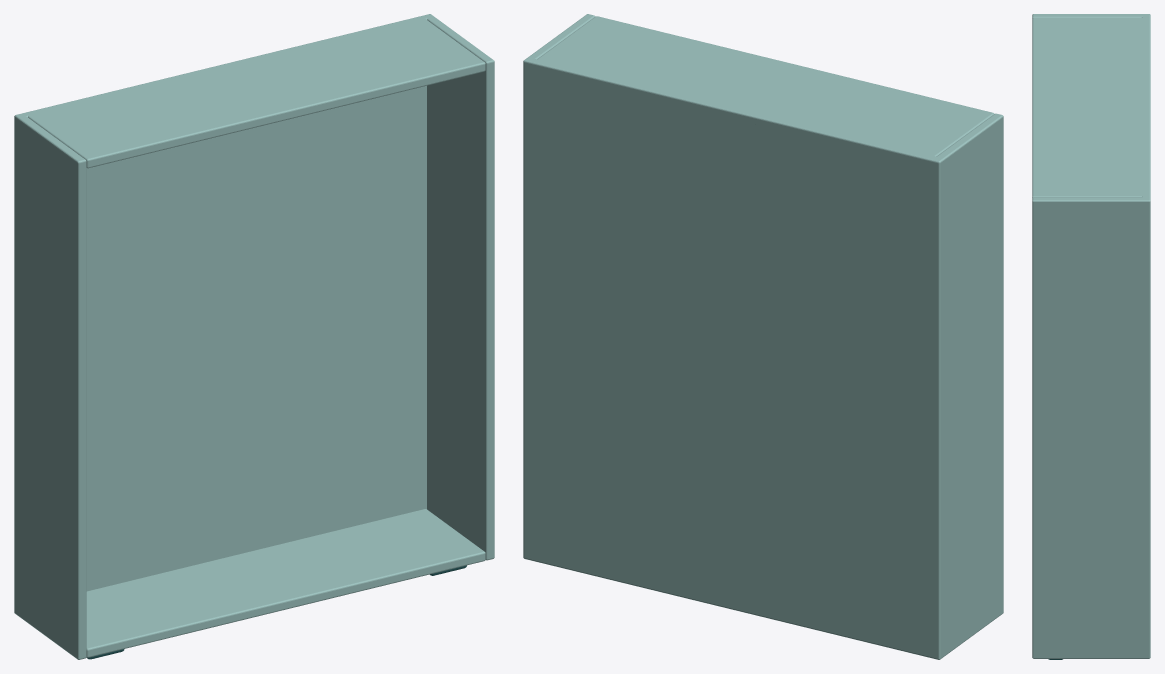
File: bin.glb
3 renders of one model, left to right at view 1: azimuth 30°, elevation 25°; view 2: azimuth 150°, elevation 25°; view 3: azimuth 270°, elevation 25°, orthographic. The views are drawn at different scales.
Parts seen in each view (by area): view 1: Fastener bin floor, Fastener bin side, Fastener bin side.001, Fastener bin end.001, Fastener bin end; view 2: Fastener bin floor, Fastener bin side, Fastener bin end.001, Fastener bin end, Fastener bin side.001; view 3: Fastener bin side.001, Fastener bin end.001, Fastener bin floor, Fastener bin side.
Part boxes in pixels (x1=…): Fastener bin floor: x1=14, y1=14, x2=432, y2=615; Fastener bin side: x1=14, y1=113, x2=86, y2=659; Fastener bin side.001: x1=427, y1=14, x2=494, y2=560; Fastener bin end.001: x1=25, y1=16, x2=485, y2=168; Fastener bin end: x1=86, y1=509, x2=485, y2=657; Fastener bin floor: x1=523, y1=58, x2=943, y2=659; Fastener bin side: x1=932, y1=113, x2=1003, y2=659; Fastener bin end.001: x1=533, y1=16, x2=994, y2=166; Fastener bin end: x1=533, y1=554, x2=929, y2=657; Fastener bin side.001: x1=523, y1=14, x2=595, y2=559; Fastener bin side.001: x1=1032, y1=197, x2=1149, y2=658; Fastener bin end.001: x1=1032, y1=18, x2=1150, y2=197; Fastener bin floor: x1=1142, y1=14, x2=1150, y2=658; Fastener bin side: x1=1032, y1=14, x2=1149, y2=18.
Bounding box in the file's own units: 0.28 × 0.327 × 0.075.
